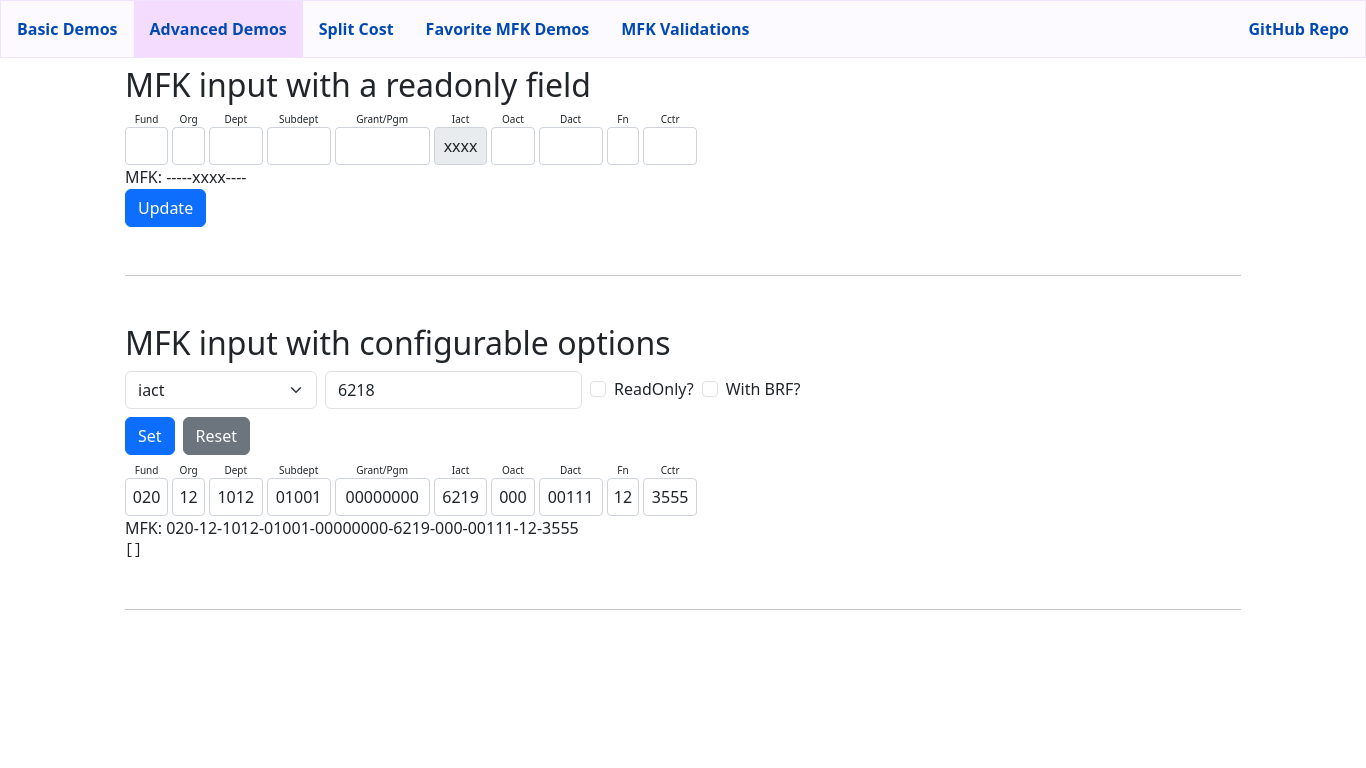
Test case: Advanced Demos › should update existing MFK after set options with default value and readonly
Check: the field labelled "Iact" below "ReadOnly?" holds "6219", box [434,478,488,516]
Click the label with id "checkbox-readonly".
click(654, 389)  # box [614,377,694,401]
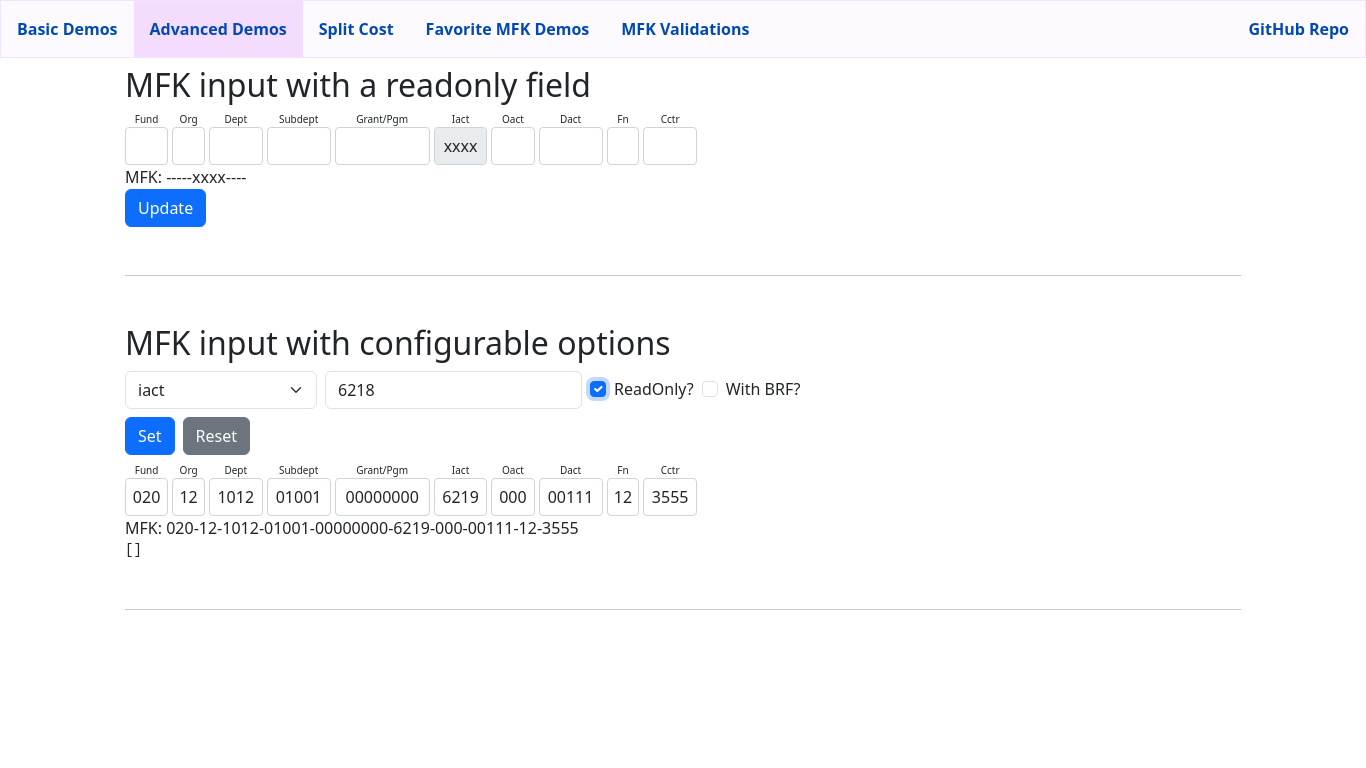
Click the button with id "set-option2-btn".
click(150, 436)  # box [125,417,175,455]
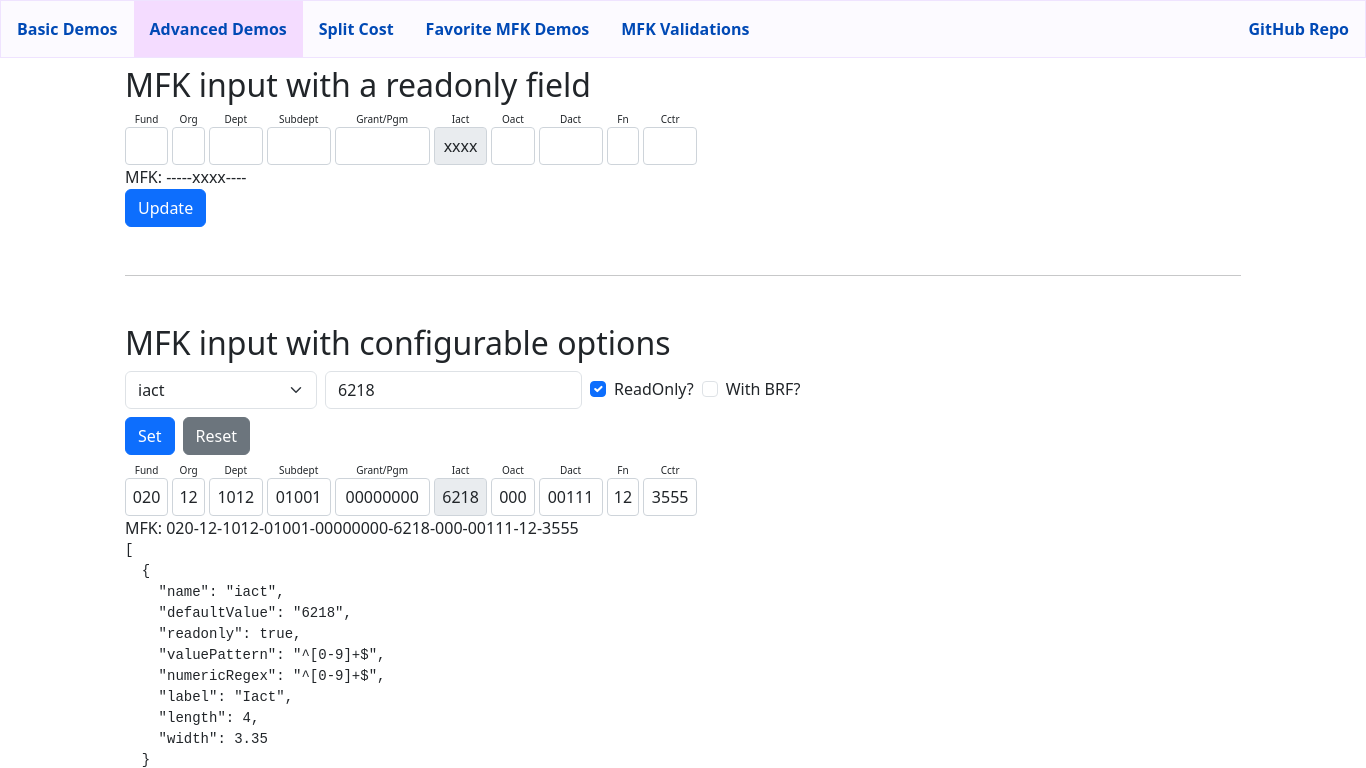
Check: the element showing "020-12-1012-01001-00000000-6218-000-00111-12-3555" is shown, box [166,517,579,539]
Check: the field labelled "Iact" below "ReadOnly?" holds "6218", box [434,478,488,516]
